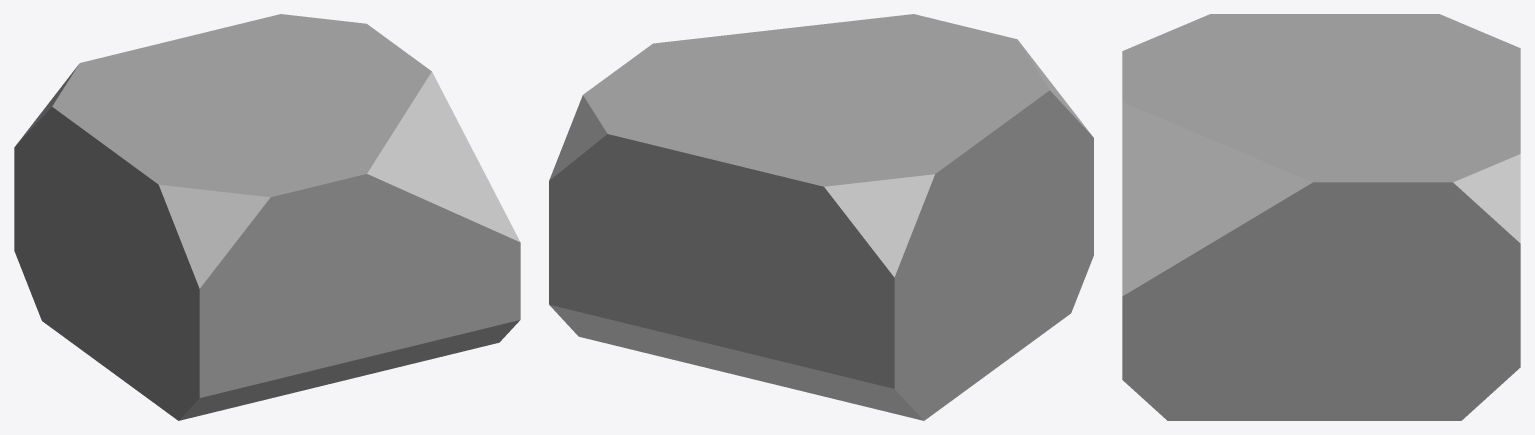
Rendered from rock_10.fbx.
3 views of the same model, side by side, from view 1: azimuth 30°, elevation 25°; view 2: azimuth 150°, elevation 25°; view 3: azimuth 270°, elevation 25° (orthographic). The views are drawn at different scales.
Visible parts, largest first — view 1: rock_10; view 2: rock_10; view 3: rock_10.
Part boxes in pixels (bbox=[...]): rock_10: bbox=[14, 14, 520, 420]; rock_10: bbox=[549, 14, 1093, 420]; rock_10: bbox=[1122, 14, 1520, 420].
Bounding box in the file's own units: 40.03 × 26.43 × 40.03.
